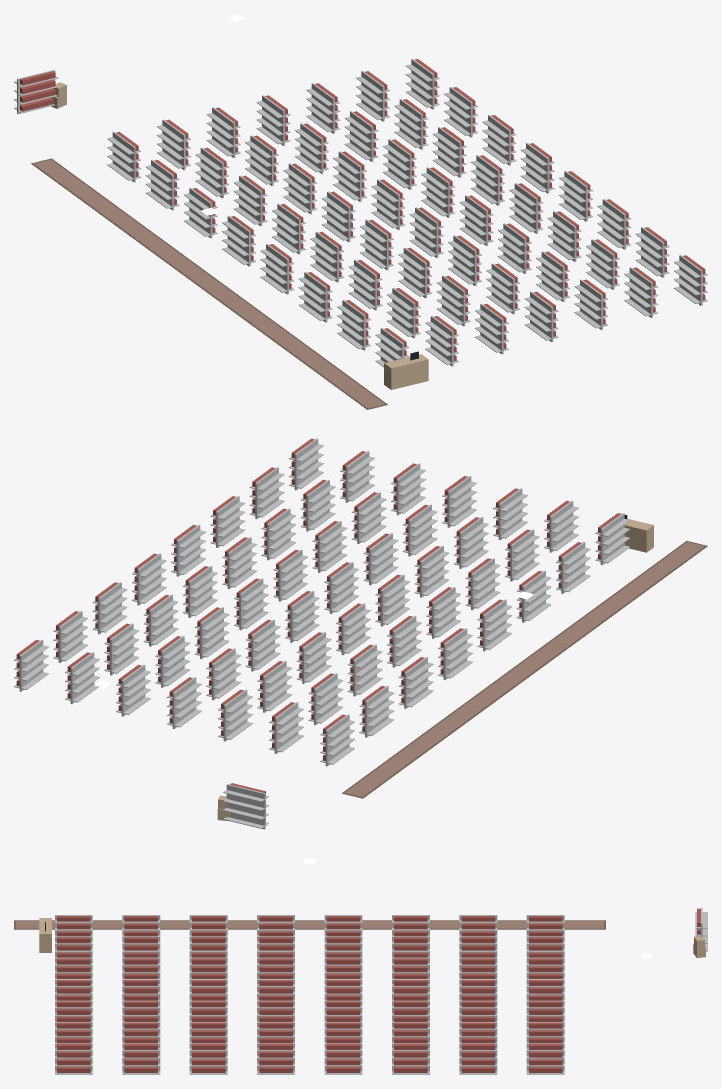
Rendered from fine-s0.glb.
3 views of the same model, one above another, from view 1: azimuth 30°, elevation 25°; view 2: azimuth 150°, elevation 25°; view 3: azimuth 270°, elevation 25° (orthographic). The views are drawn at different scales.
Visible parts, largest first — view 1: soft-s0, shelving.000, shop-counter.000, shelf.012, shelf.053, shelf.009, shelf.018, shelf.030, shelf.041, shelf.048, shelf.000, shelf.008 (+47 smaller); view 2: soft-s0, shelving.000, shelf.031, shelf.047, shelf.006, shelf.022, shelf.027, shelf.048, shelf.024, shelf.043, shelf.003, shelf.011 (+47 smaller); view 3: soft-s0, shelf.048, shelf.049, shelf.051, shelf.053, shelf.054, shelf.050, shelf.052, shelf.055, shelf.008, shelf.009, shelf.011 (+47 smaller).
Boxes of the visible parts, <box> form: soft-s0: <box>31,158,387,409</box>; shelving.000: <box>14,70,58,114</box>; shop-counter.000: <box>384,351,428,389</box>; shelf.012: <box>310,231,344,282</box>; shelf.053: <box>597,199,631,249</box>; shelf.009: <box>195,147,229,198</box>; shelf.018: <box>283,163,317,214</box>; shelf.030: <box>486,263,520,314</box>; shelf.041: <box>394,99,428,149</box>; shelf.048: <box>405,58,439,109</box>; shelf.000: <box>107,131,141,182</box>; shelf.008: <box>157,119,190,170</box>; soft-s0: <box>342,541,707,798</box>; shelving.000: <box>223,783,268,829</box>; shelf.031: <box>442,476,476,527</box>; shelf.047: <box>340,451,374,502</box>; shelf.006: <box>556,542,590,593</box>; shelf.022: <box>454,517,488,568</box>; shelf.027: <box>285,590,319,642</box>; shelf.048: <box>14,639,48,691</box>; shelf.024: <box>167,677,201,728</box>; shelf.043: <box>183,566,217,617</box>; shelf.003: <box>438,628,472,679</box>; shelf.011: <box>387,615,421,667</box>; soft-s0: <box>14,920,605,929</box>; shelf.048: <box>526,1043,564,1074</box>; shelf.049: <box>459,1043,497,1074</box>; shelf.051: <box>324,1043,362,1074</box>; shelf.053: <box>189,1043,227,1074</box>; shelf.054: <box>122,1043,160,1074</box>; shelf.050: <box>392,1043,429,1074</box>; shelf.052: <box>257,1043,294,1074</box>; shelf.055: <box>55,1043,92,1074</box>; shelf.008: <box>526,936,564,957</box>; shelf.009: <box>459,936,497,957</box>; shelf.011: <box>324,936,362,957</box>.
Size of the model in its own units: 17.54 by 3.37 by 32.94.
